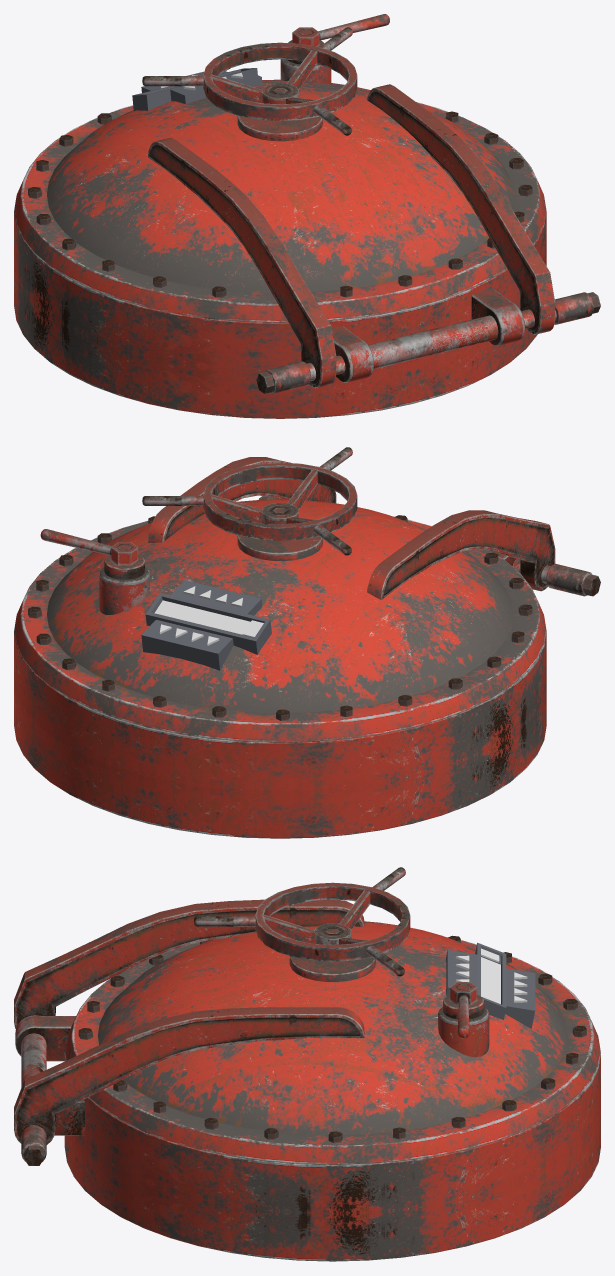
Rendered from SM_Luke_Base.fbx.
3 views of the same model, one above another, from view 1: azimuth 30°, elevation 25°; view 2: azimuth 150°, elevation 25°; view 3: azimuth 270°, elevation 25° (orthographic).
Parts seen in each view (by area): view 1: SM_Luke, SM_Luke_Base; view 2: SM_Luke, SM_Luke_Base, SM_Luke_Steklo; view 3: SM_Luke, SM_Luke_Base, SM_Luke_Steklo.
Part boxes in pixels (x1,y1,x2,y2): SM_Luke: (14,14,555,388); SM_Luke_Base: (14,210,600,418); SM_Luke: (14,447,555,742); SM_Luke_Base: (14,496,600,838); SM_Luke_Steklo: (154,600,250,634); SM_Luke: (14,867,600,1164); SM_Luke_Base: (15,1015,600,1261); SM_Luke_Steklo: (481,957,500,1003).
Size of the model in its own units: 1.5 by 0.7201 by 1.64.
